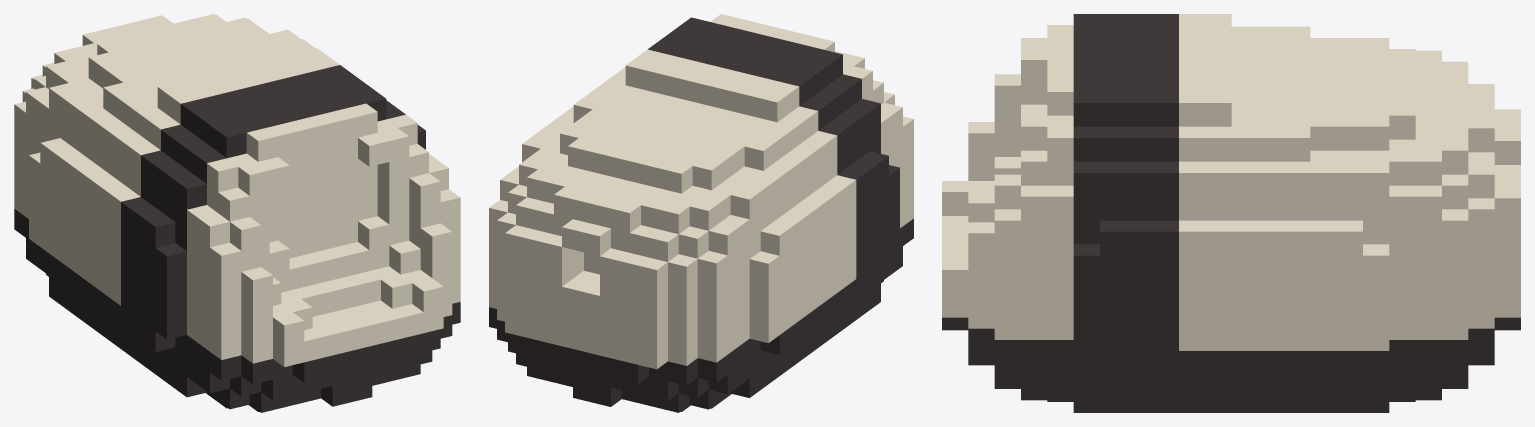
Rendered from panda__body.glb.
3 renders of one model, left to right at view 1: azimuth 30°, elevation 25°; view 2: azimuth 150°, elevation 25°; view 3: azimuth 270°, elevation 25°, orthographic. The views are drawn at different scales.
Visible parts, largest first — view 1: panda__body; view 2: panda__body; view 3: panda__body.
Boxes of the visible parts, x1=… form: panda__body: x1=14, y1=14, x2=460, y2=412; panda__body: x1=489, y1=14, x2=913, y2=412; panda__body: x1=942, y1=14, x2=1520, y2=412.
Bounding box in the file's own units: 1.4 × 1.3 × 2.2.
1 material, 1 textured.
